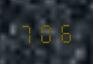seven: (18, 20, 35, 44)
six: (55, 19, 72, 43)
zero: (37, 20, 54, 43)
